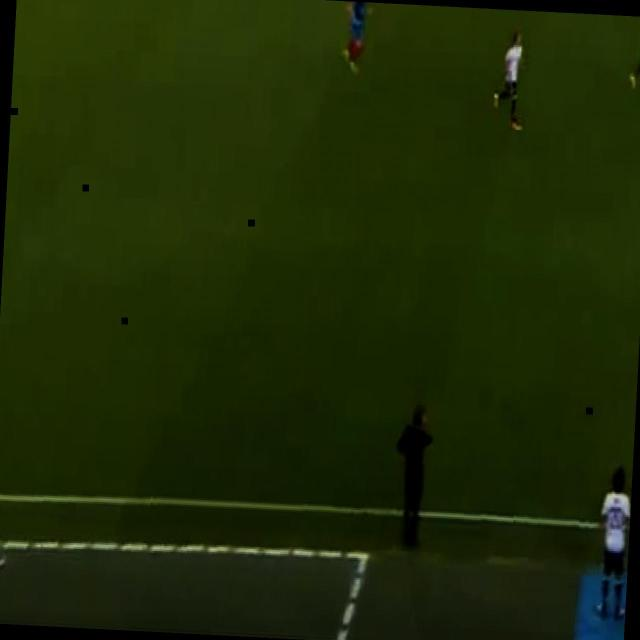player-white: (392, 406, 434, 544), (594, 468, 632, 620), (493, 30, 527, 130), (342, 1, 370, 73), (627, 16, 640, 100)
